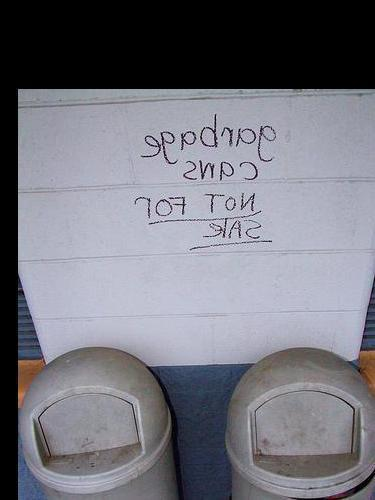Bote de Basura: (212, 338, 371, 500), (20, 344, 182, 500)
